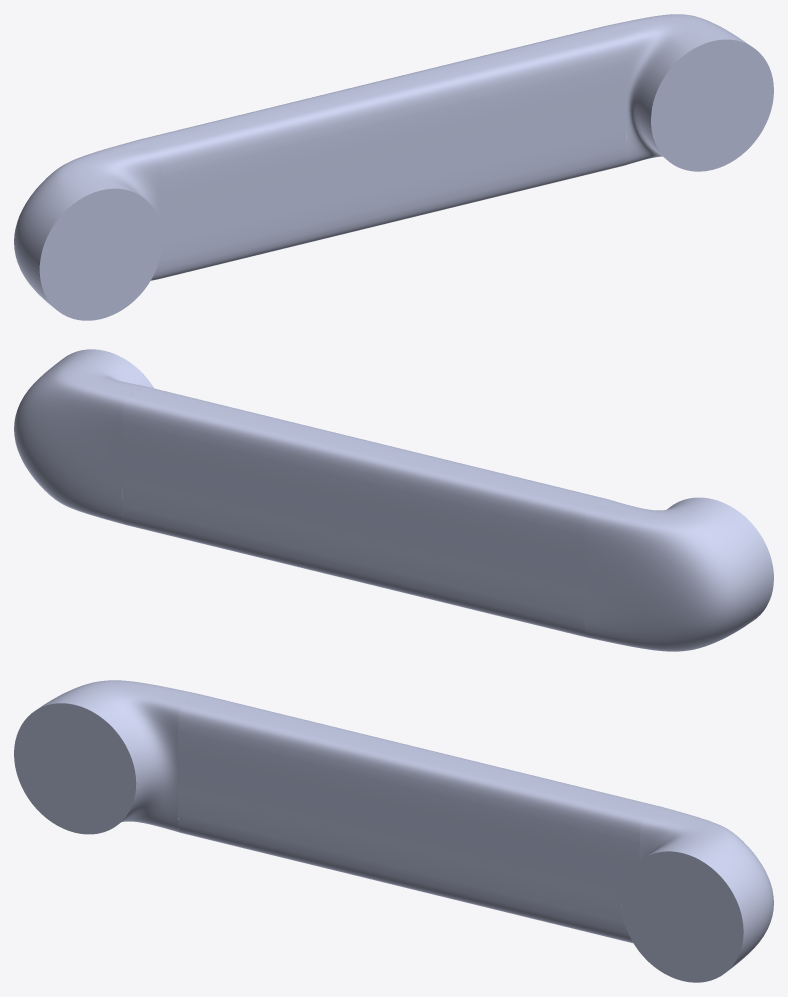
File: jaco_link_2.dae
The picture shows the model from 3 angles, top to bottom: view 1: azimuth 30°, elevation 25°; view 2: azimuth 150°, elevation 25°; view 3: azimuth 330°, elevation 25°; orthographic projection.
Parts seen in each view (by area): view 1: Actor0; view 2: Actor0; view 3: Actor0.
Boxes of the visible parts, left/top/right/bottom form: Actor0: left=14, top=14, right=773, bottom=320; Actor0: left=14, top=349, right=773, bottom=651; Actor0: left=14, top=680, right=773, bottom=982.
Bounding box in the file's own units: 0.4925 × 0.0825 × 0.0552.
